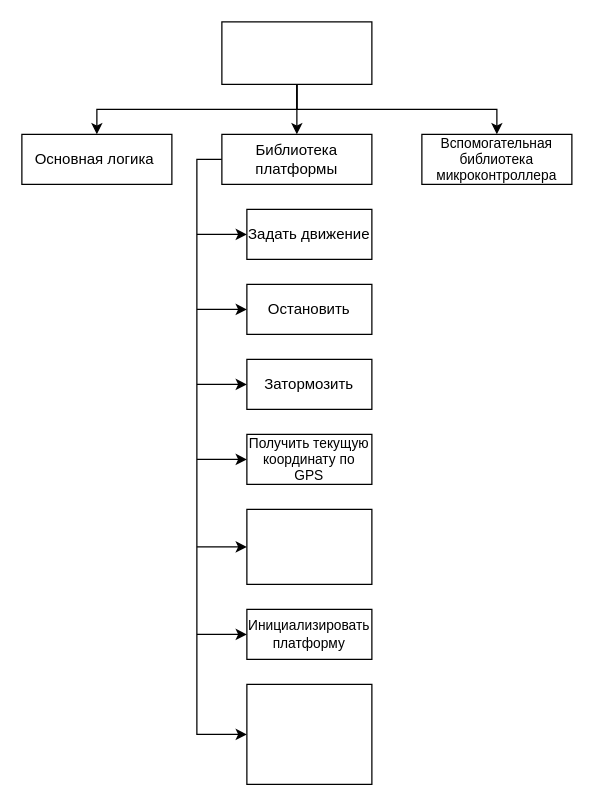
The diagram is 594 pixels wide and 806 high, and some of its shapes have lost their labels. The centre of each missing label's shape, as x and y in pixels:
Встраиваемое приложение платформы: the point at 296,52
Инициализировать обработку входного управляющего сигнала: the point at 309,733
Обработать входной управляющий сигнал: the point at 309,546
